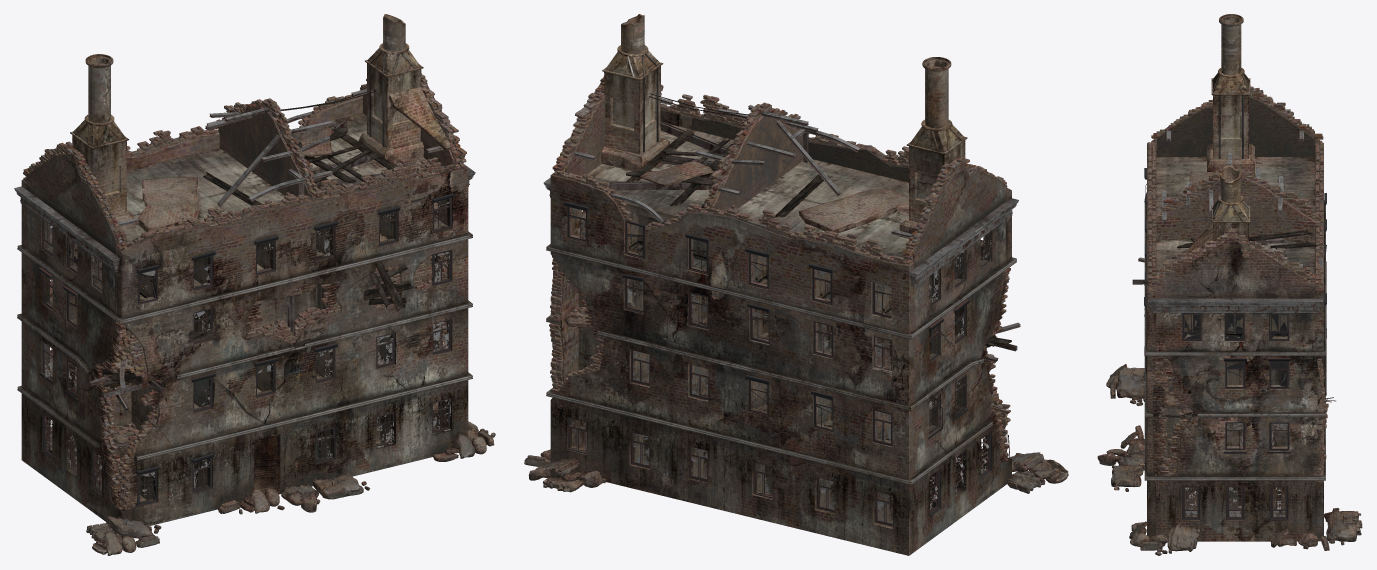
Rendered from War Damaged building.fbx.
The picture shows the model from 3 angles, left to right: view 1: azimuth 30°, elevation 25°; view 2: azimuth 150°, elevation 25°; view 3: azimuth 270°, elevation 25°; orthographic projection. The views are drawn at different scales.
Visible parts, largest first — view 1: XI_WDS_B_Mill.Shape; view 2: XI_WDS_B_Mill.Shape; view 3: XI_WDS_B_Mill.Shape.
Boxes of the visible parts, x1=… form: XI_WDS_B_Mill.Shape: x1=14, y1=14, x2=495, y2=555; XI_WDS_B_Mill.Shape: x1=524, y1=14, x2=1068, y2=555; XI_WDS_B_Mill.Shape: x1=1097, y1=14, x2=1362, y2=555.
Bounding box in the file's own units: 1404 × 1388 × 866.
7 materials, 7 textured.
